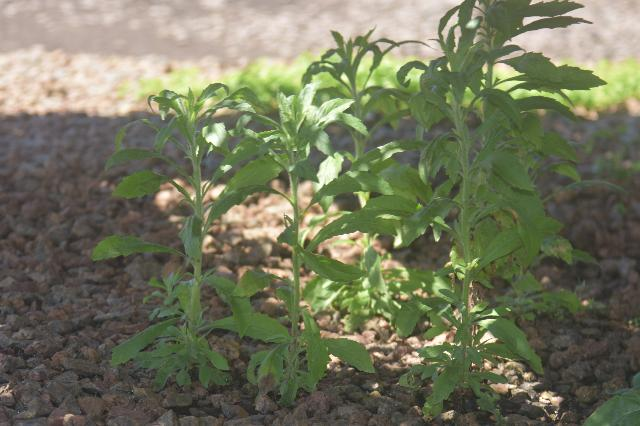MalezaMontesDelPlata: (395, 0, 594, 414), (90, 70, 267, 398), (232, 76, 364, 410), (303, 25, 405, 329)
